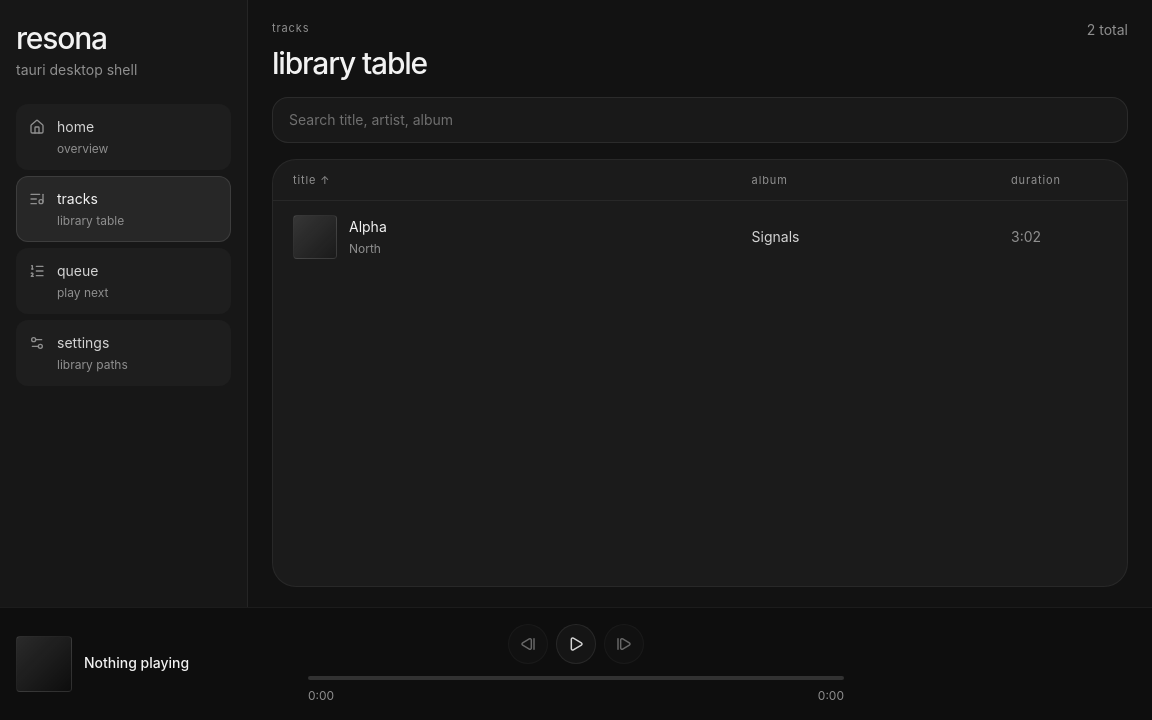
Test: app shell smoke checks › cycles album header sort back to the default title order
The image size is (1152, 720).
Check: the heading "library table" is shown, box [272,44,427,80]
Click the button "album" at {"x": 770, "y": 180}, box [752,172,788,188]
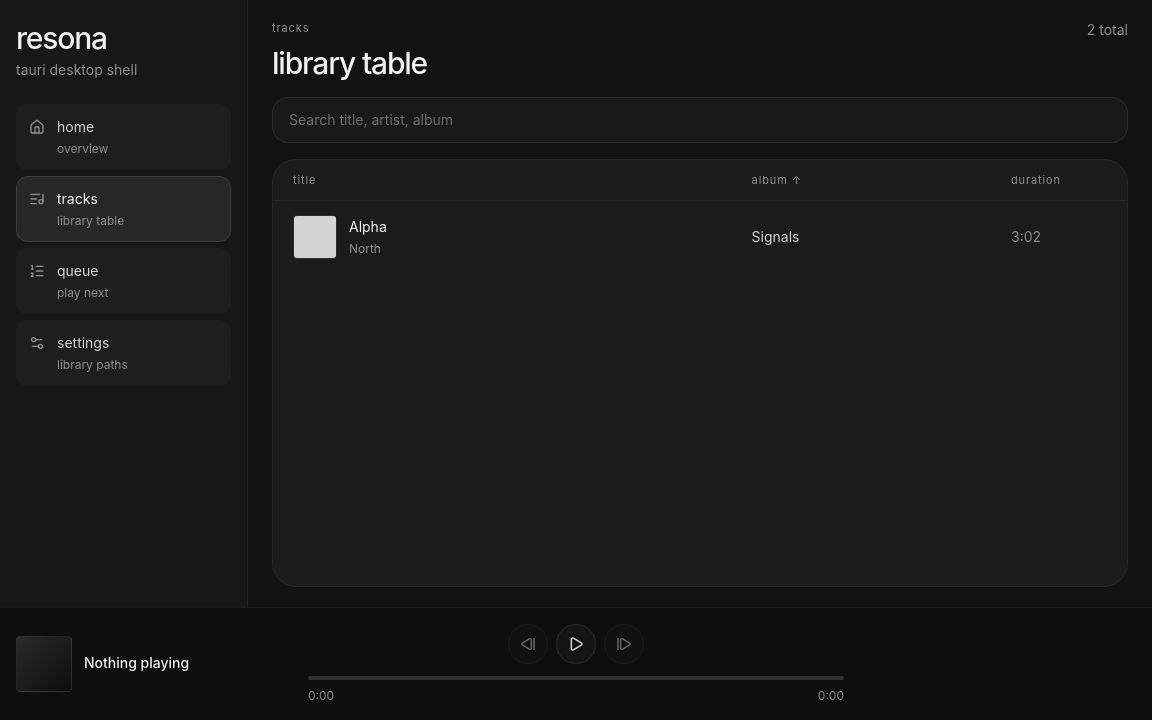
Check: the button "album ↑" is shown
Click the button "album ↑" at {"x": 777, "y": 180}, box [752,172,802,188]
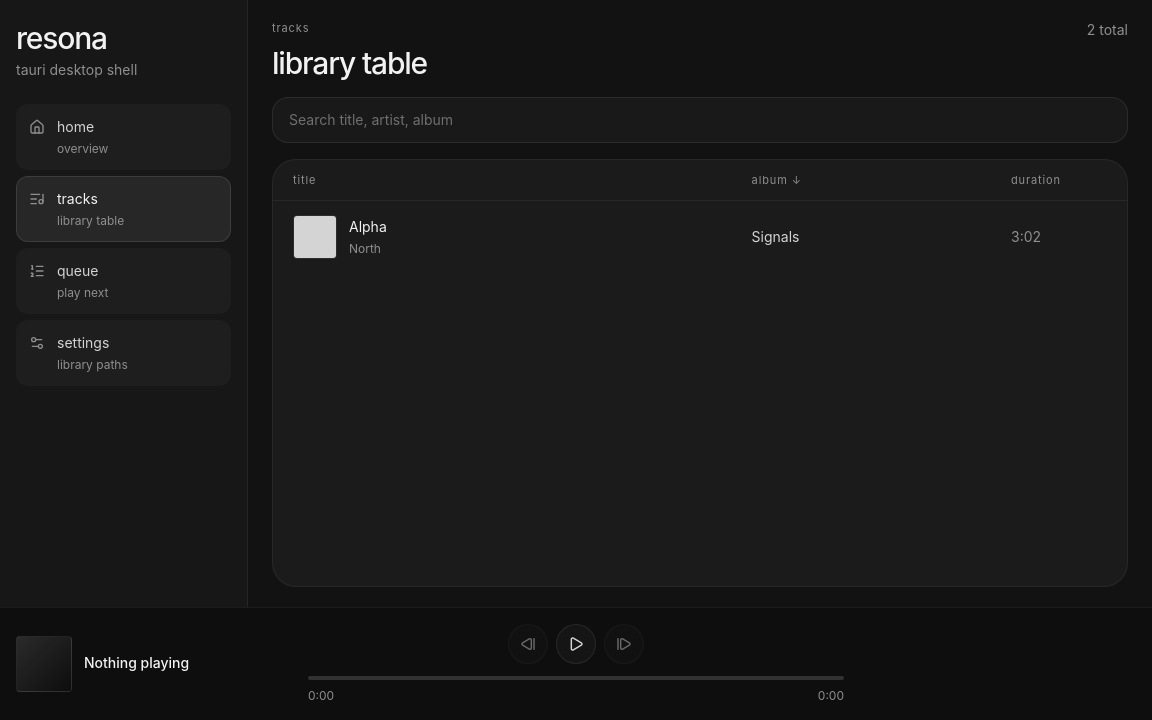
Check: the button "album ↓" is shown
Click the button "album ↓" at {"x": 777, "y": 180}, box [752,172,802,188]
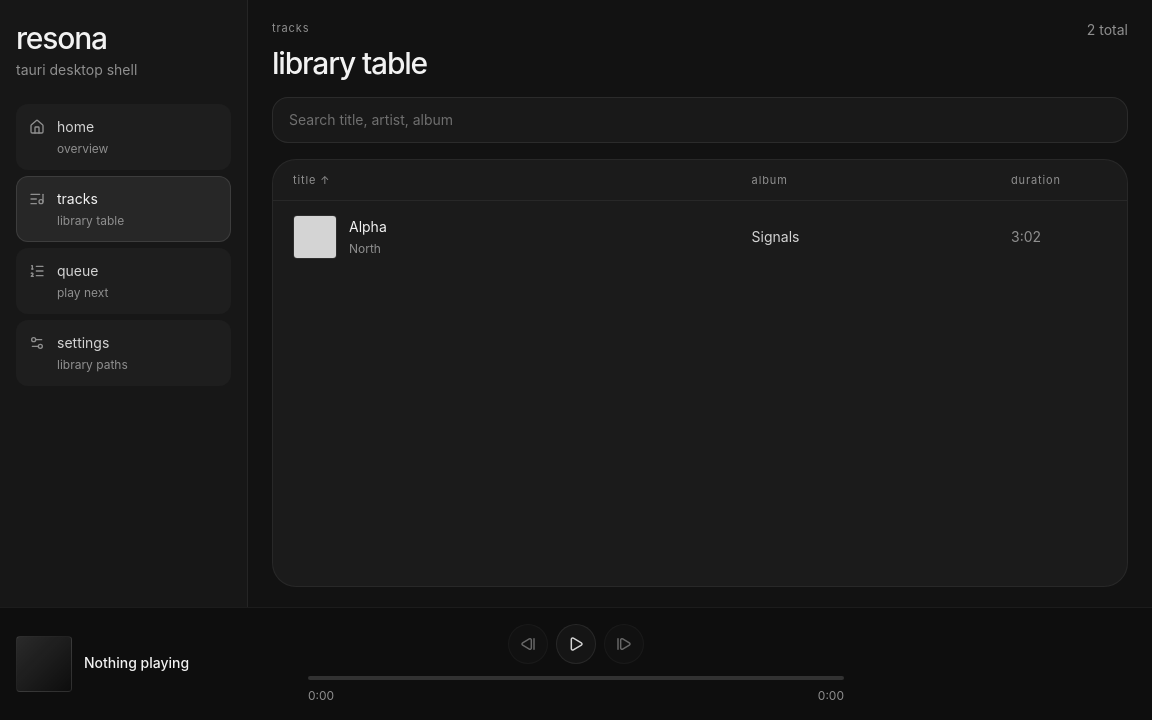
Check: the button "title ↑" is shown, box [293,172,330,188]
